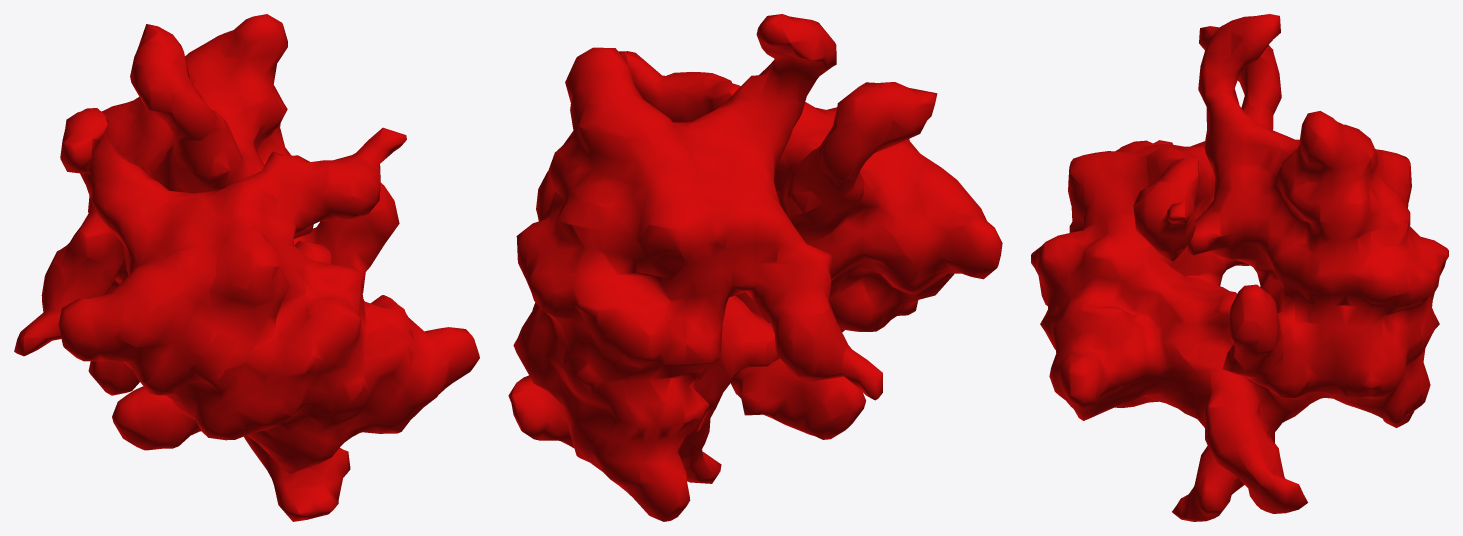
File: CoarseMS_3afp.fbx
3 renders of one model, left to right at view 1: azimuth 30°, elevation 25°; view 2: azimuth 150°, elevation 25°; view 3: azimuth 270°, elevation 25°, orthographic. The views are drawn at different scales.
Visible parts, largest first — view 1: Empty; view 2: Empty; view 3: Empty.
Part boxes in pixels (left/top/right/bottom): Empty: left=14, top=14, right=479, bottom=521; Empty: left=508, top=14, right=1002, bottom=521; Empty: left=1031, top=14, right=1448, bottom=521.
Bounding box in the file's own units: 61.7 × 74.05 × 61.73.
